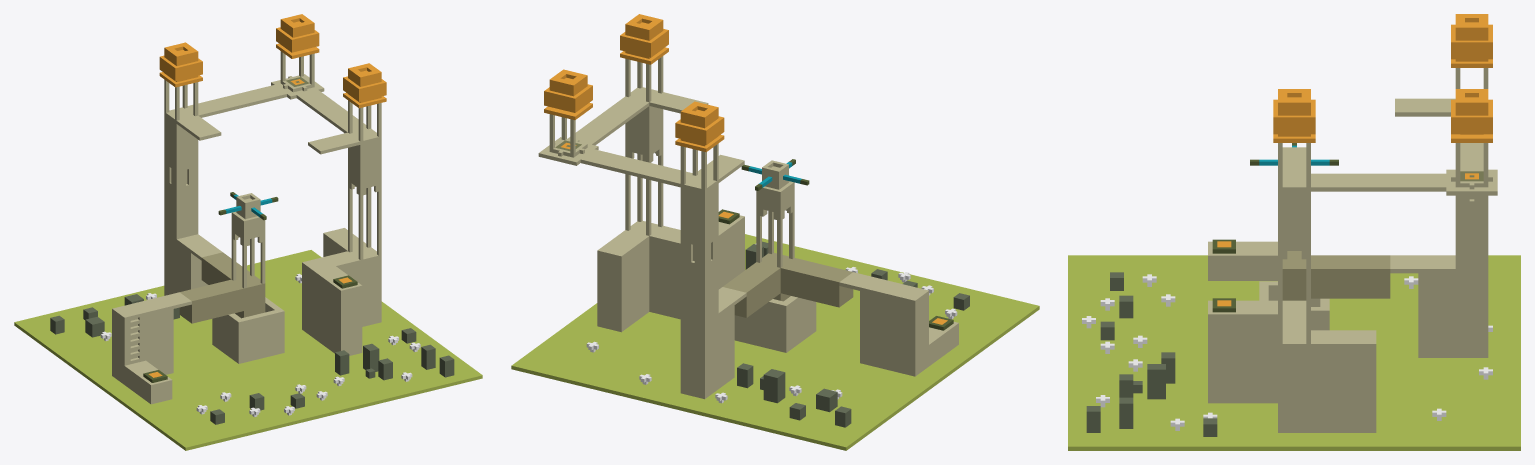
File: cast01.FBX
The picture shows the model from 3 angles, left to right: view 1: azimuth 30°, elevation 25°; view 2: azimuth 150°, elevation 25°; view 3: azimuth 270°, elevation 25°; orthographic projection. The views are drawn at different scales.
Parts seen in each view (by area): view 1: default; view 2: default; view 3: default.
Part boxes in pixels (x1,y1,x2,y2): default: (14, 14, 482, 450); default: (511, 14, 1039, 450); default: (1068, 14, 1520, 450).
Bounding box in the file's own units: 9.7 × 7.9 × 9.7.
Materials: 1 (1 with a texture image).
